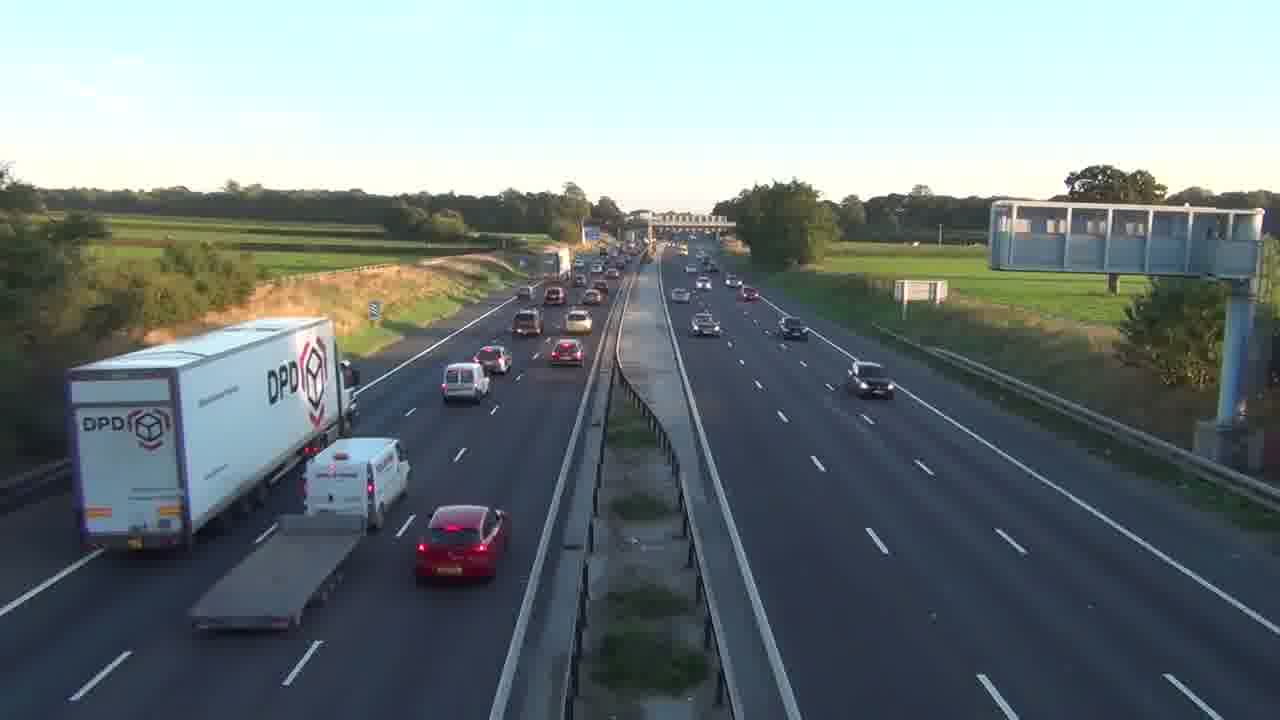car: (414, 503, 512, 584), (845, 359, 895, 400), (440, 363, 490, 404), (548, 337, 584, 367), (563, 307, 593, 335)
truck: (65, 314, 349, 556), (302, 435, 411, 532), (440, 363, 490, 404)
